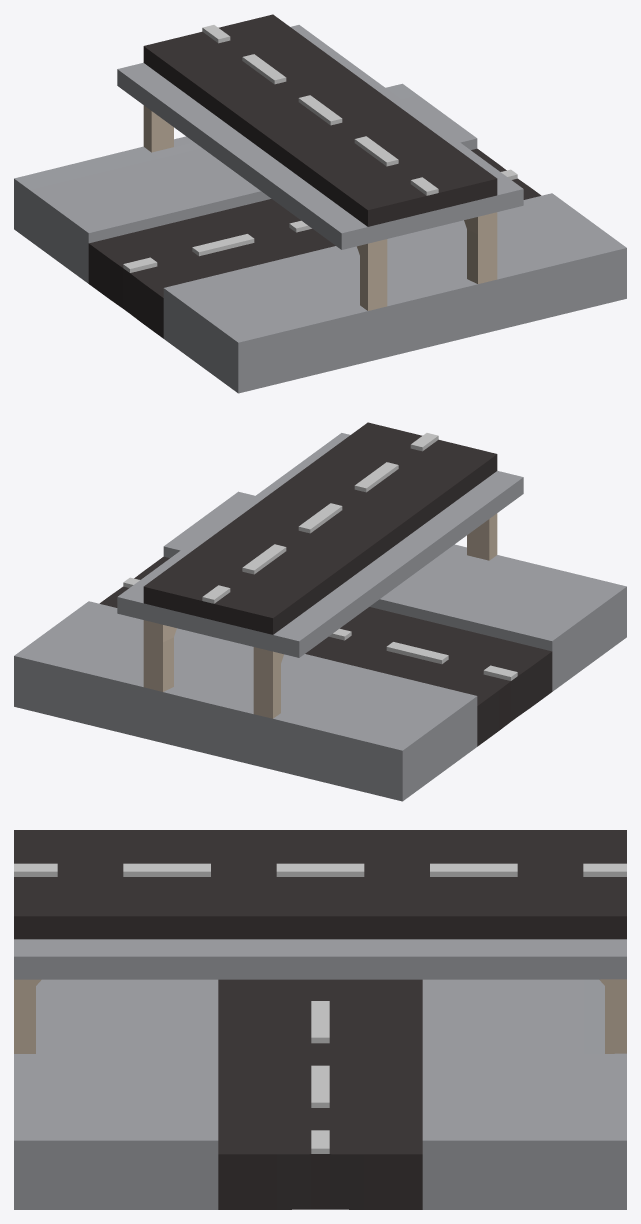
File: Street_Bridge_Underpass.glb
The picture shows the model from 3 angles, top to bottom: view 1: azimuth 30°, elevation 25°; view 2: azimuth 150°, elevation 25°; view 3: azimuth 270°, elevation 25°; orthographic projection. The views are drawn at different scales.
Visible parts, largest first — view 1: Street_Bridge_Underpass; view 2: Street_Bridge_Underpass; view 3: Street_Bridge_Underpass.
Boxes of the visible parts, x1,y1,x2,y2 form: Street_Bridge_Underpass: (14, 14, 626, 393); Street_Bridge_Underpass: (14, 422, 626, 801); Street_Bridge_Underpass: (14, 830, 626, 1209).
Size of the model in its own units: 2 by 0.7659 by 2.
